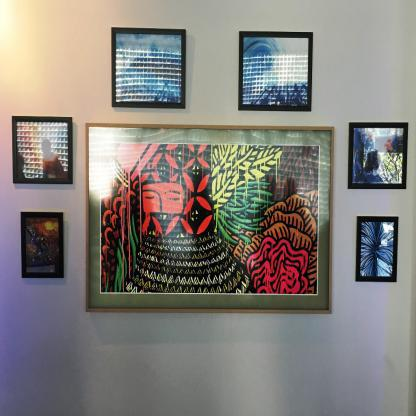lampu: (84, 118, 338, 324), (235, 27, 312, 116), (110, 24, 187, 112), (9, 115, 77, 187), (343, 123, 411, 195), (355, 216, 401, 285), (20, 214, 66, 279)
